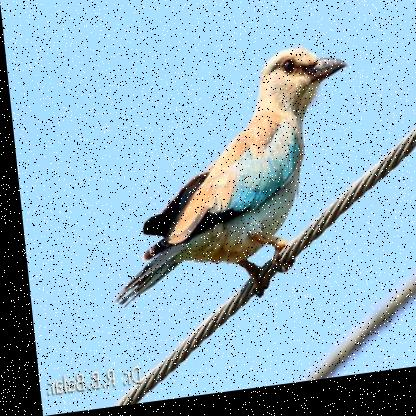Burung: (93, 51, 366, 318)
